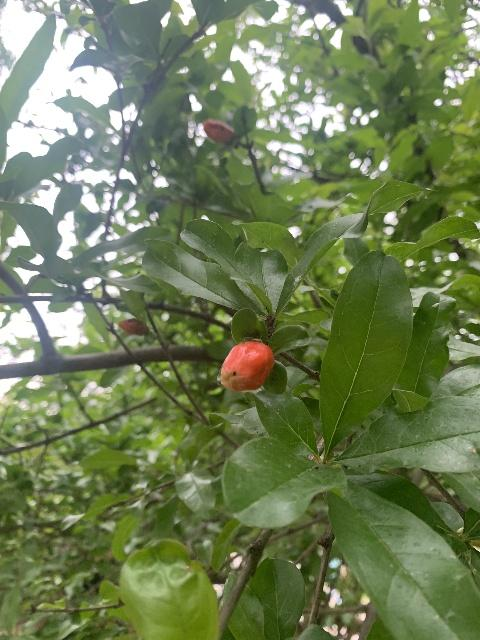bud: (220, 340, 274, 392), (203, 119, 235, 144), (117, 319, 148, 334)
